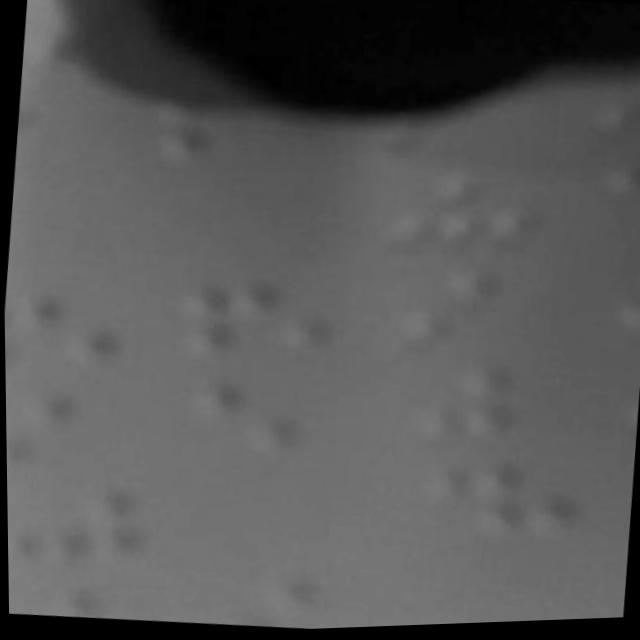braiile: (168, 270, 363, 373), (406, 352, 586, 463), (174, 374, 358, 480), (382, 158, 559, 265), (396, 256, 573, 362), (427, 449, 601, 551), (5, 386, 161, 484), (6, 479, 150, 583), (3, 288, 151, 387), (15, 581, 167, 627), (594, 150, 640, 238)
